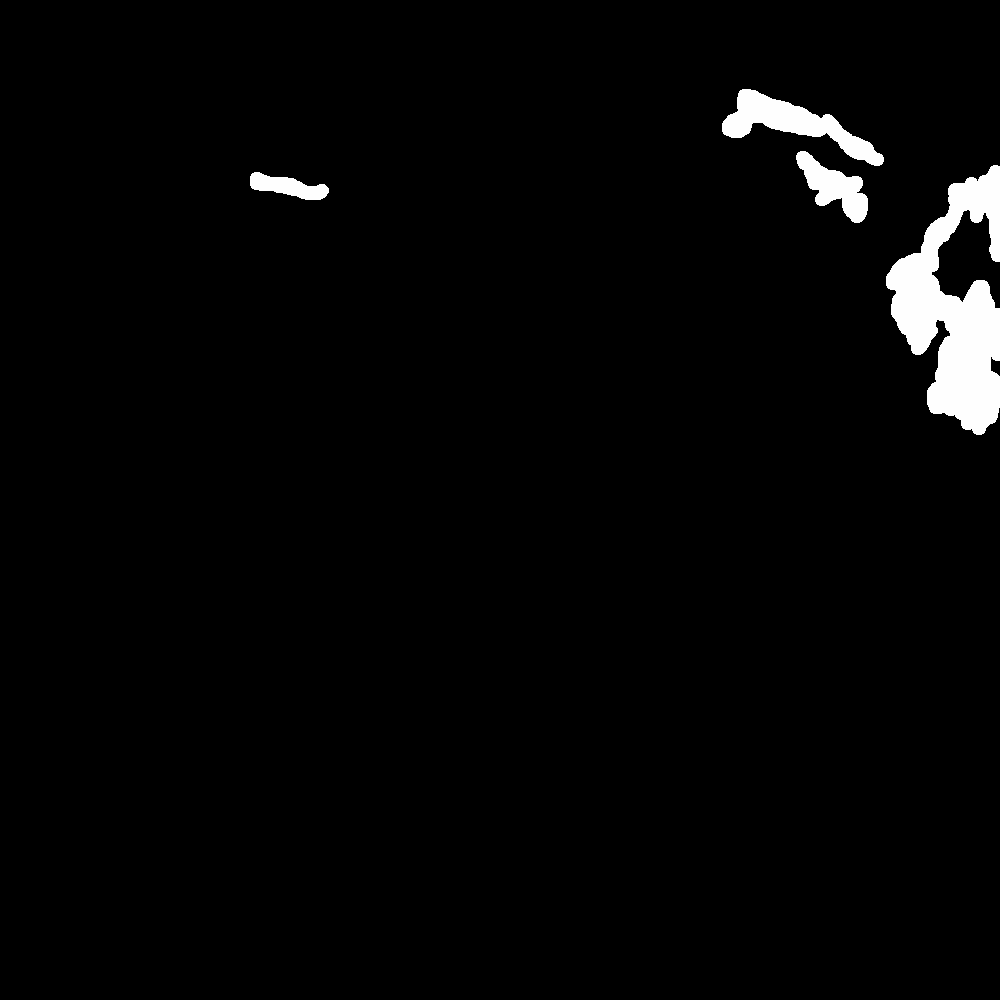illegal: (212, 166, 602, 251), (892, 166, 1000, 434), (726, 92, 881, 219)
